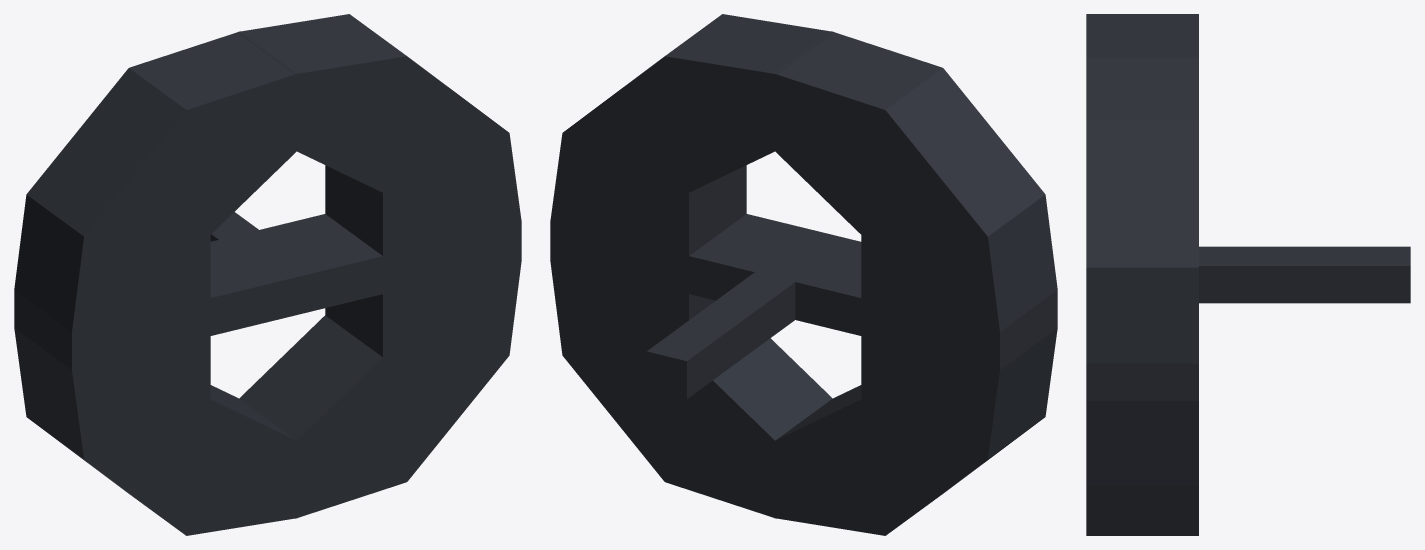
Rendered from kolu.obj.
3 views of the same model, side by side, from view 1: azimuth 30°, elevation 25°; view 2: azimuth 150°, elevation 25°; view 3: azimuth 270°, elevation 25° (orthographic). The views are drawn at different scales.
Visible parts, largest first — view 1: cube; view 2: cube; view 3: cube.
Boxes of the visible parts, box(x1,y1,x2,y2) form: cube: box(14, 14, 521, 535); cube: box(550, 14, 1057, 535); cube: box(1086, 14, 1410, 535).
Bounding box in the file's own units: 0.225 × 0.2125 × 0.1437.
